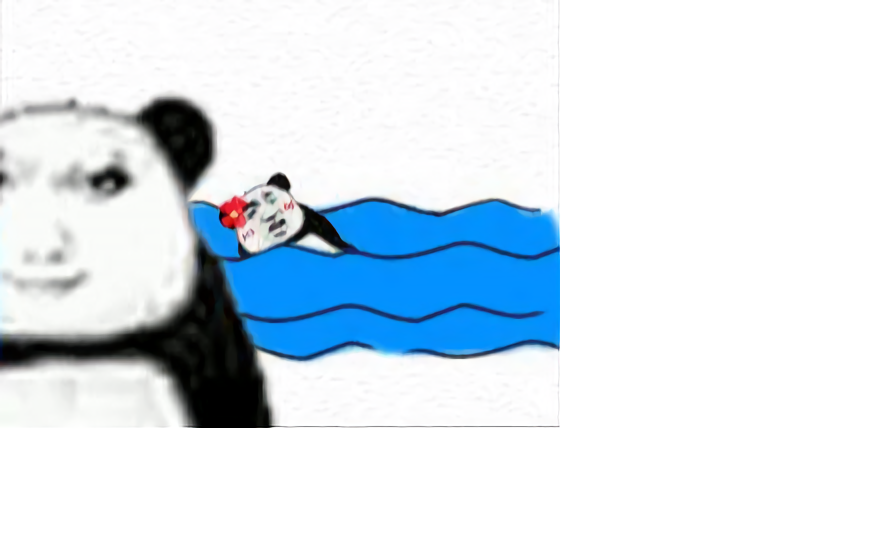dragon: (1, 144, 143, 304)
